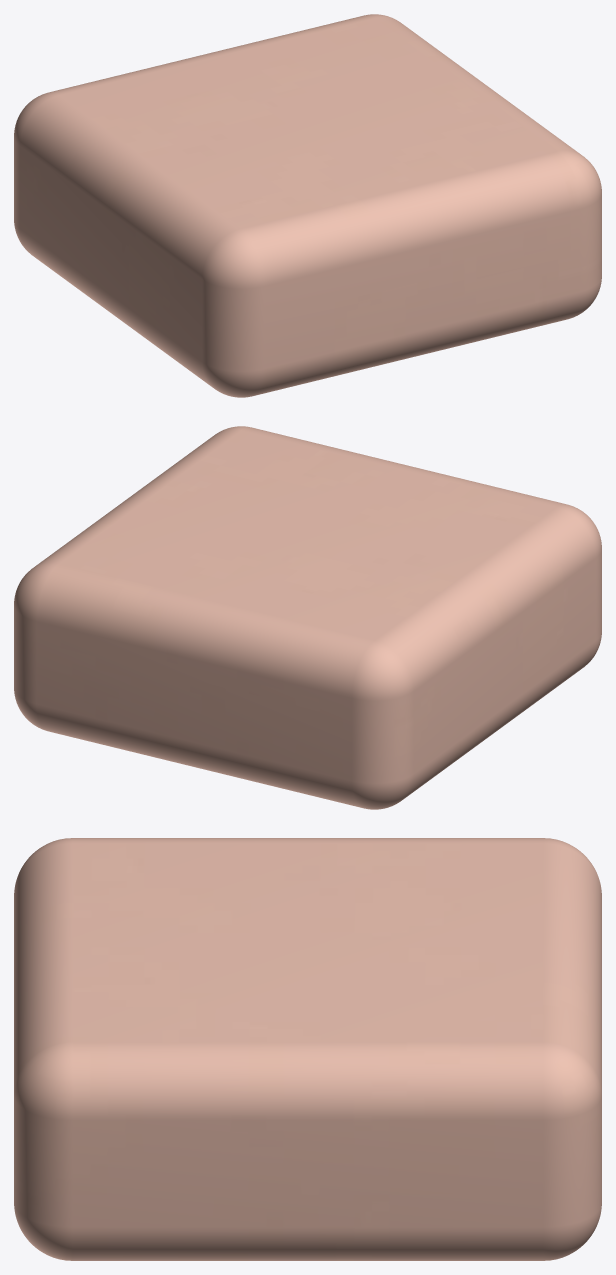
Rendered from dirtTile.gltf.
3 views of the same model, one above another, from view 1: azimuth 30°, elevation 25°; view 2: azimuth 150°, elevation 25°; view 3: azimuth 270°, elevation 25° (orthographic). The views are drawn at different scales.
Visible parts, largest first — view 1: default_procedural_mesh_cube_n3d; view 2: default_procedural_mesh_cube_n3d; view 3: default_procedural_mesh_cube_n3d.
Boxes of the visible parts, box(x1,y1,x2,y2) form: default_procedural_mesh_cube_n3d: box(14, 14, 601, 397); default_procedural_mesh_cube_n3d: box(14, 426, 601, 809); default_procedural_mesh_cube_n3d: box(14, 838, 601, 1260).
Bounding box in the file's own units: 0.2 × 0.08 × 0.2.
Materials: 1 (1 with a texture image).
